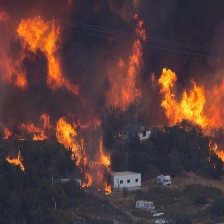fire: (1, 108, 112, 194), (148, 67, 224, 159), (9, 13, 75, 96), (104, 22, 145, 114)
